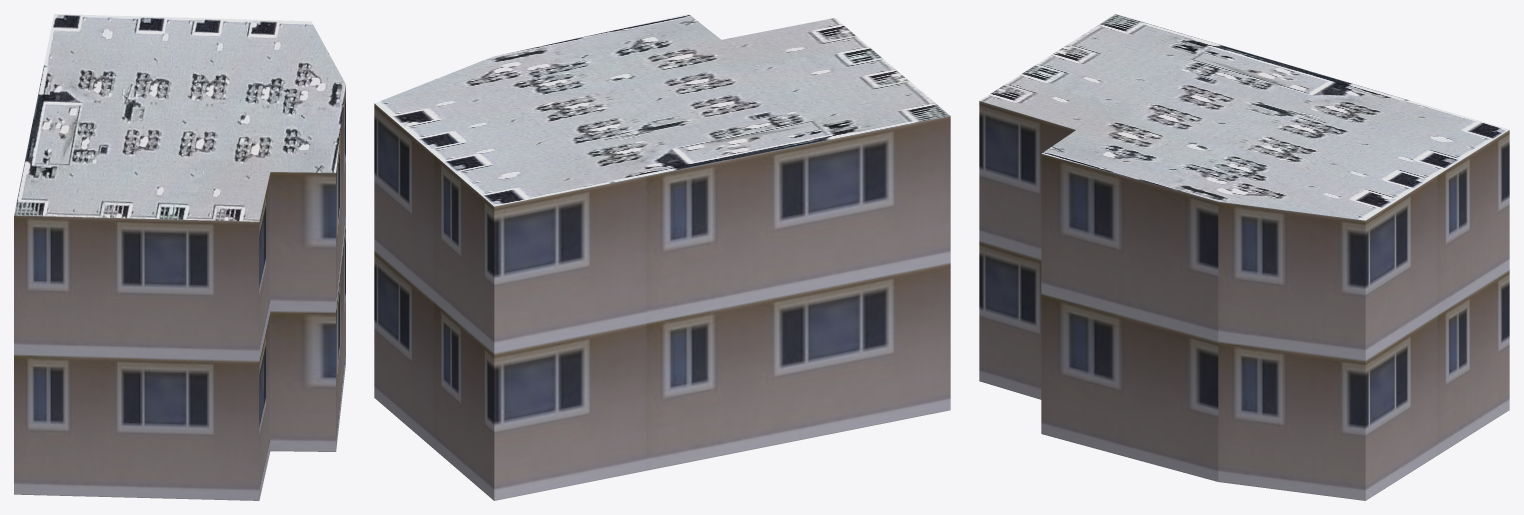
File: ResTex__679.fbx
3 renders of one model, left to right at view 1: azimuth 30°, elevation 25°; view 2: azimuth 150°, elevation 25°; view 3: azimuth 270°, elevation 25°, orthographic. The views are drawn at different scales.
Parts seen in each view (by area): view 1: CityEngineMaterial_21_m, CityEngineMaterial_m; view 2: CityEngineMaterial_21_m, CityEngineMaterial_m; view 3: CityEngineMaterial_21_m, CityEngineMaterial_m.
Part boxes in pixels (<box>): CityEngineMaterial_21_m: <box>14,86,345,500</box>; CityEngineMaterial_m: <box>14,14,345,221</box>; CityEngineMaterial_21_m: <box>374,103,950,500</box>; CityEngineMaterial_m: <box>375,14,950,206</box>; CityEngineMaterial_21_m: <box>979,101,1509,500</box>; CityEngineMaterial_m: <box>980,14,1509,220</box>.
Size of the model in its own units: 9.49 by 6 by 10.29.
2 materials, 2 textured.
